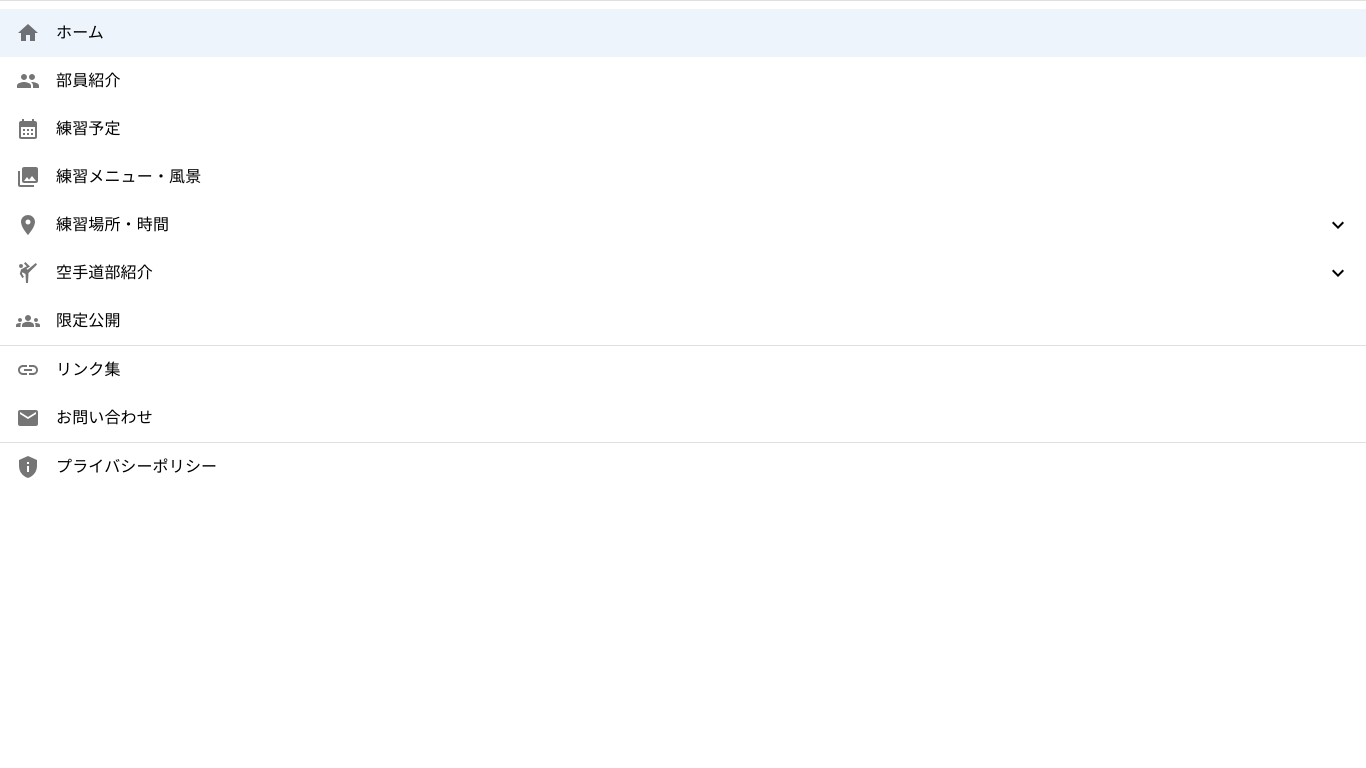
Scenario: Menu › open places
// 練習場所をクリックすると練習場所と時間のリンクが表示される
Click the link with test id "place": {"x": 113, "y": 224} [16,213,1350,237]
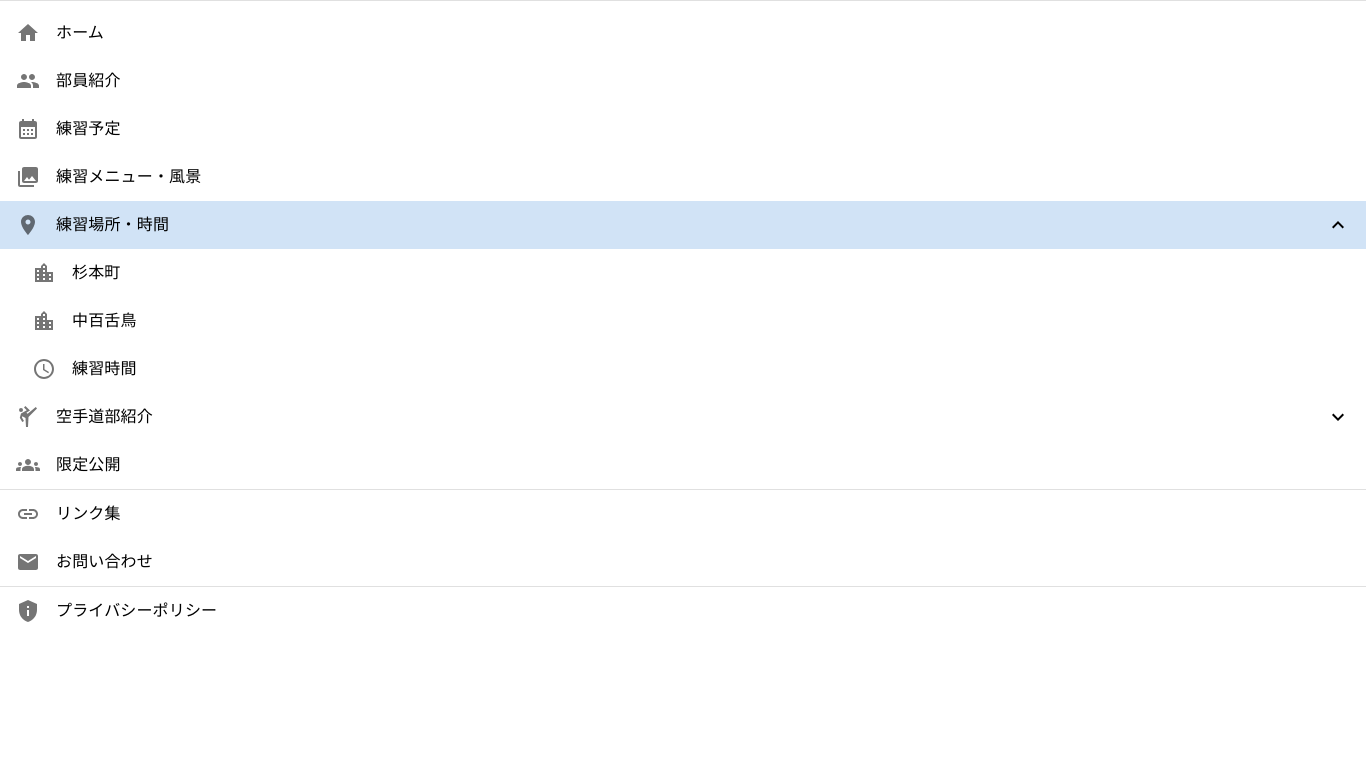
Result: the button with test id "sugimoto" is shown at [32,261,120,285]
Result: the button with test id "nakamozu" is shown at [32,309,137,333]
Result: the button with test id "time" is shown at [32,357,137,381]
